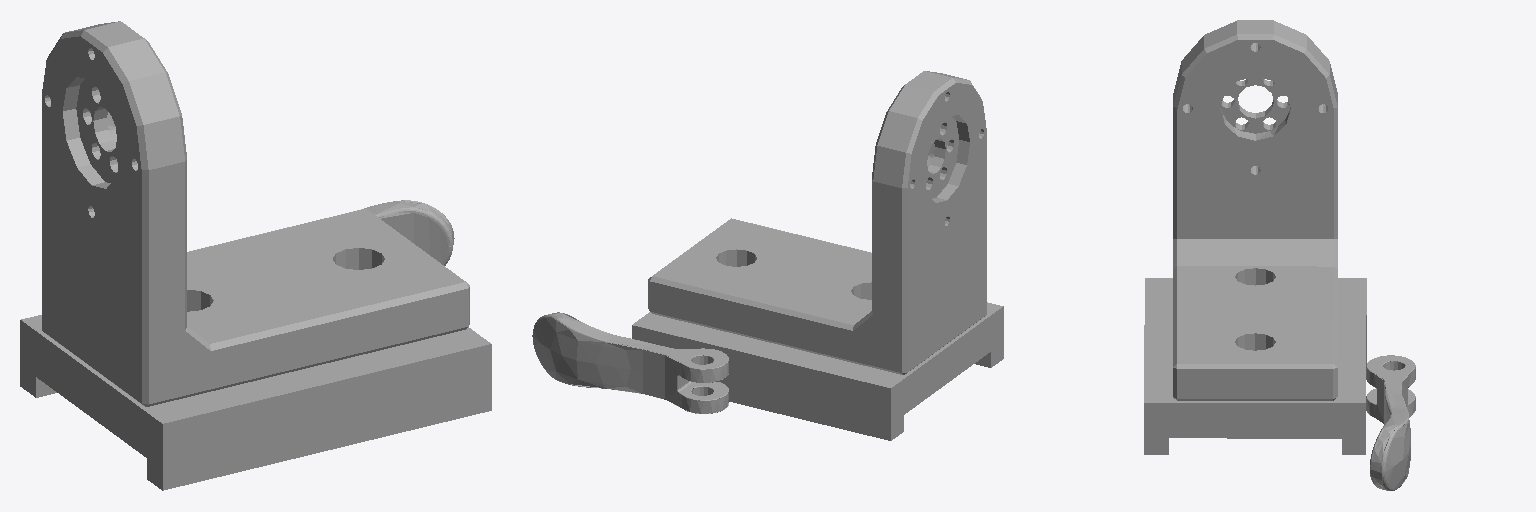
URDF robot description (dyros_avatar_haptic):
<?xml version="1.0" ?>
<robot name="dyros_avatar_haptic">

<mujoco>
      <compiler 
      meshdir="../meshes/" 
      balanceinertia="true" 
      discardvisual="false" />
</mujoco>

<material name="silver">
  <color rgba="0.700 0.700 0.700 1.000"/>
</material>

<link name="base_link">
</link>

<joint name="base_footprint_joint" type="fixed">
  <origin rpy="0 0 0" xyz="0 -0.5 0.0"/>
  <parent link="base_link"/>
  <child link="R0v2_1"/>
</joint>

<link name="R0v2_1">
  <inertial>
    <origin xyz="-0.022028950404034714 0.05827830226084305 0.44607097962097164" rpy="0 0 0"/>
    <mass value="54.47494543793283"/>
    <inertia ixx="17.852652" iyy="18.178648" izz="1.124692" ixy="-0.098729" iyz="-0.067986" ixz="-0.126587"/>
  </inertial>
  <visual>
    <origin xyz="0 0 0" rpy="0 0 0"/>
    <geometry>
      <mesh filename="package://dyros_avatar_haptic_description/meshes/R0v2_1_reduced.stl" scale="0.001 0.001 0.001"/>
    </geometry>
    <material name="silver"/>
  </visual>
  <collision>
    <origin xyz="0 0 0" rpy="0 0 0"/>
    <geometry>
      <mesh filename="package://dyros_avatar_haptic_description/meshes/R0v2_1_reduced.stl" scale="0.001 0.001 0.001"/>
    </geometry>
  </collision>
</link>

<link name="R1v2_1">
  <inertial>
    <origin xyz="0.07174869274231475 0.05748257241792944 0.10425487387661309" rpy="0 0 0"/>
    <mass value="9.600608608246226"/>
    <inertia ixx="0.167071" iyy="0.229357" izz="0.083369" ixy="-0.006156" iyz="-0.006963" ixz="-0.072231"/>
  </inertial>
  <visual>
    <origin xyz="3.819167204710538e-16 -1.521005543736465e-16 -0.4787000000000002" rpy="0 0 0"/>
    <geometry>
      <mesh filename="package://dyros_avatar_haptic_description/meshes/R1v2_1.stl" scale="0.001 0.001 0.001"/>
    </geometry>
    <material name="silver"/>
  </visual>
  <collision>
    <origin xyz="3.819167204710538e-16 -1.521005543736465e-16 -0.4787000000000002" rpy="0 0 0"/>
    <geometry>
      <mesh filename="package://dyros_avatar_haptic_description/meshes/R1v2_1.stl" scale="0.001 0.001 0.001"/>
    </geometry>
  </collision>
</link>

<link name="R2v2_1">
  <inertial>
    <origin xyz="0.23666810313412606 -0.04191195106523485 0.0027708705562773384" rpy="0 0 0"/>
    <mass value="3.481861325153536"/>
    <inertia ixx="0.005047" iyy="0.04114" izz="0.040168" ixy="0.002548" iyz="-0.000176" ixz="-9.5e-05"/>
  </inertial>
  <visual>
    <origin xyz="-0.2585480454957069 -0.06403943059620669 -0.7655000000000011" rpy="0 0 0"/>
    <geometry>
      <mesh filename="package://dyros_avatar_haptic_description/meshes/R2_Newv6_1.stl" scale="0.001 0.001 0.001"/>
    </geometry>
    <material name="silver"/>
  </visual>
  <collision>
    <origin xyz="-0.2585480454957069 -0.06403943059620669 -0.7655000000000011" rpy="0 0 0"/>
    <geometry>
      <mesh filename="package://dyros_avatar_haptic_description/meshes/R2_Newv6_1.stl" scale="0.001 0.001 0.001"/>
    </geometry>
  </collision>
</link>

<link name="R3v2_1">
  <inertial>
    <origin xyz="0.20360178786026029 0.12681566846597345 0.02265817176339935" rpy="0 0 0"/>
    <mass value="2.298579454210347"/>
    <inertia ixx="0.01698" iyy="0.017649" izz="0.031725" ixy="-0.013132" iyz="-0.000459" ixz="-0.00049"/>
  </inertial>
  <visual>
    <origin xyz="-0.6055374936299631 -0.018958138650613392 -0.8200000000000008" rpy="0 0 0"/>
    <geometry>
      <mesh filename="package://dyros_avatar_haptic_description/meshes/R3_Newv2_1.stl" scale="0.001 0.001 0.001"/>
    </geometry>
    <material name="silver"/>
  </visual>
  <collision>
    <origin xyz="-0.6055374936299631 -0.018958138650613392 -0.8200000000000008" rpy="0 0 0"/>
    <geometry>
      <mesh filename="package://dyros_avatar_haptic_description/meshes/R3_Newv2_1.stl" scale="0.001 0.001 0.001"/>
    </geometry>
  </collision>
</link>

<link name="R4v1_1">
  <inertial>
    <origin xyz="0.010907562973638263 -0.12775745213700443 -0.3772608174559408" rpy="0 0 0"/>
    <mass value="2.6616567255115777"/>
    <inertia ixx="0.572958" iyy="0.565444" izz="0.011321" ixy="0.001865" iyz="-0.049907" ixz="0.023194"/>
  </inertial>
  <visual>
    <origin xyz="-0.8553406094124334 -0.20418452269287354 -0.8097000000000013" rpy="0 0 0"/>
    <geometry>
      <mesh filename="package://dyros_avatar_haptic_description/meshes/R4v1_1.stl" scale="0.001 0.001 0.001"/>
    </geometry>
    <material name="silver"/>
  </visual>
  <collision>
    <origin xyz="-0.8553406094124334 -0.20418452269287354 -0.8097000000000013" rpy="0 0 0"/>
    <geometry>
      <mesh filename="package://dyros_avatar_haptic_description/meshes/R4v1_1.stl" scale="0.001 0.001 0.001"/>
    </geometry>
  </collision>
</link>

<link name="R5v3_1">
  <inertial>
    <origin xyz="0.0034782066716875226 0.07181457569529952 0.012391219361348793" rpy="0 0 0"/>
    <mass value="1.6499764908897157"/>
    <inertia ixx="0.003237" iyy="0.00299" izz="0.003256" ixy="-8.6e-05" iyz="0.000531" ixz="8e-05"/>
  </inertial>
  <visual>
    <origin xyz="-0.8552444280602497 -0.11640957538928683 -0.6536250000000011" rpy="0 0 0"/>
    <geometry>
      <mesh filename="package://dyros_avatar_haptic_description/meshes/R5v3_1.stl" scale="0.001 0.001 0.001"/>
    </geometry>
    <material name="silver"/>
  </visual>
  <collision>
    <origin xyz="-0.8552444280602497 -0.11640957538928683 -0.6536250000000011" rpy="0 0 0"/>
    <geometry>
      <mesh filename="package://dyros_avatar_haptic_description/meshes/R5v3_1.stl" scale="0.001 0.001 0.001"/>
    </geometry>
  </collision>
</link>

<link name="EE">
  <inertial>
    <origin xyz="0.026599124986693923 0.00616031430711475 -0.04537670815321748" rpy="0 0 0"/>
    <mass value="0.29003290841142326"/>
    <inertia ixx="0.000186" iyy="0.000297" izz="0.000306" ixy="-6.2e-05" iyz="2.1e-05" ixz="7.4e-05"/>
  </inertial>
  <visual>
    <origin xyz="-0.8173400021573647 -0.20365116235887956 -0.6536249999999967" rpy="0 0 0"/>
    <geometry>
      <mesh filename="package://dyros_avatar_haptic_description/meshes/R6v1_1.stl" scale="0.001 0.001 0.001"/>
    </geometry>
    <material name="silver"/>
  </visual>
  <collision>
    <origin xyz="-0.8173400021573647 -0.20365116235887956 -0.6536249999999967" rpy="0 0 0"/>
    <geometry>
      <mesh filename="package://dyros_avatar_haptic_description/meshes/R6v1_1.stl" scale="0.001 0.001 0.001"/>
    </geometry>
  </collision>
</link>

<joint name="R_Rev1" type="prismatic">
  <origin xyz="-3.819167204710538e-16 1.521005543736465e-16 0.4787000000000002" rpy="0 0 0"/>
  <parent link="R0v2_1"/>
  <child link="R1v2_1"/>
  <axis xyz="1.1102230246251642e-16 -3.052485909729872e-16 1.0000000000000018"/>
  <limit upper="3.14159" lower="-3.14159" effort="100" velocity="100"/>
</joint>

<joint name="R_Rev2" type="revolute">
  <origin xyz="0.2585480454957073 0.06403943059620654 0.2868000000000009" rpy="0 0 0"/>
  <parent link="R1v2_1"/>
  <child link="R2v2_1"/>
  <axis xyz="0.0 0.0 -1.0"/>
  <limit upper="3.14159" lower="-3.14159" effort="100" velocity="100"/>
</joint>

<joint name="R_Rev3" type="revolute">
  <origin xyz="0.3469894481342562 -0.045081291945593294 0.05449999999999977" rpy="0 0 0"/>
  <parent link="R2v2_1"/>
  <child link="R3v2_1"/>
  <axis xyz="0.0 0.0 -1.0"/>
  <limit upper="3.14159" lower="-3.14159" effort="100" velocity="100"/>
</joint>

<joint name="R_Rev4" type="revolute">
  <origin xyz="0.24980311578247028 0.18522638404226016 -0.010299999999999532" rpy="0 0 0"/>
  <parent link="R3v2_1"/>
  <child link="R4v1_1"/>
  <axis xyz="0.0 0.0 1.0"/>
  <limit upper="3.14159" lower="-3.14159" effort="100" velocity="100"/>
</joint>

<joint name="R_Rev5" type="revolute">
  <origin xyz="-9.618135218369961e-05 -0.08777494730358672 -0.15607500000000019" rpy="0 0 0"/>
  <parent link="R4v1_1"/>
  <child link="R5v3_1"/>
  <axis xyz="0.0010957715999700898 -0.9999993996421189 7.640945265029723e-16"/>
  <limit upper="3.14159" lower="-3.14159" effort="100" velocity="100"/>
</joint>

<joint name="R_Rev6" type="revolute">
  <origin xyz="-0.03790442590288501 0.08724158696959274 -4.440892098500626e-15" rpy="0 0 0"/>
  <parent link="R5v3_1"/>
  <child link="EE"/>
  <axis xyz="0.9999993996421241 -0.0010957715999707956 1.2327063634757942e-14"/>
  <limit upper="3.14159" lower="-3.14159" effort="100" velocity="100"/>
</joint>

</robot>

--- Render facts (derived) ---
3 views of the same robot in one strip: view 1: azimuth 30°, elevation 25°; view 2: azimuth 150°, elevation 25°; view 3: azimuth 270°, elevation 25° (orthographic).
Robot: dyros_avatar_haptic — 8 links, 7 joints (5 revolute, 1 prismatic, 1 fixed); root link base_link; default pose: every joint at zero.
Links seen in each view (by area): view 1: EE; view 2: EE; view 3: EE.
Link boxes in pixels (x1,y1,x2,y2): EE: [20, 21, 491, 490]; EE: [532, 71, 1003, 440]; EE: [1144, 20, 1415, 490].
Size in the robot's own frame: 0.0972 by 0.066 by 0.0848 metres.
1 mesh visuals loaded from 7 distinct referenced files (1 binary STL); not drawn: 6 (reference not matched to a file when rendering).